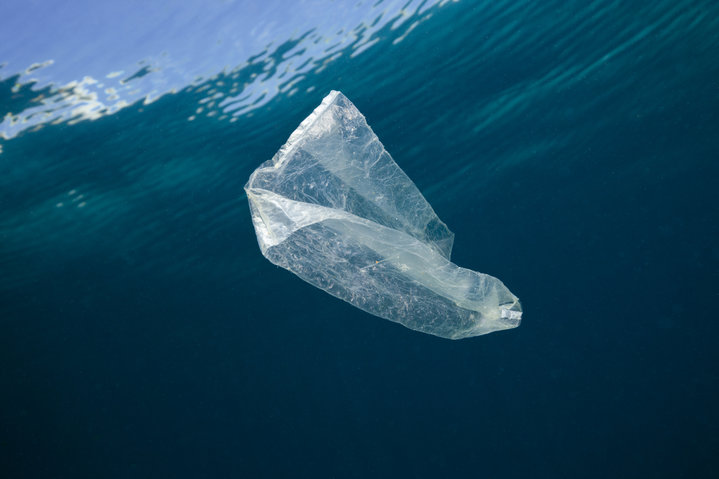litter: (220, 90, 574, 365)
